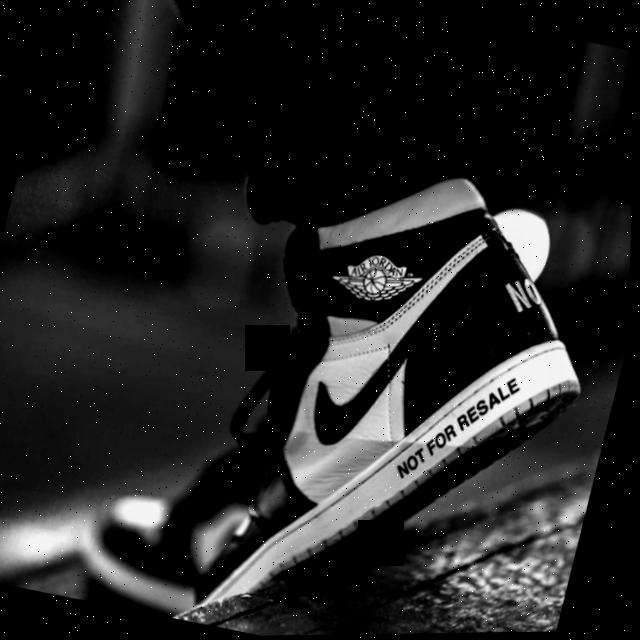shoes: (69, 114, 632, 639)
